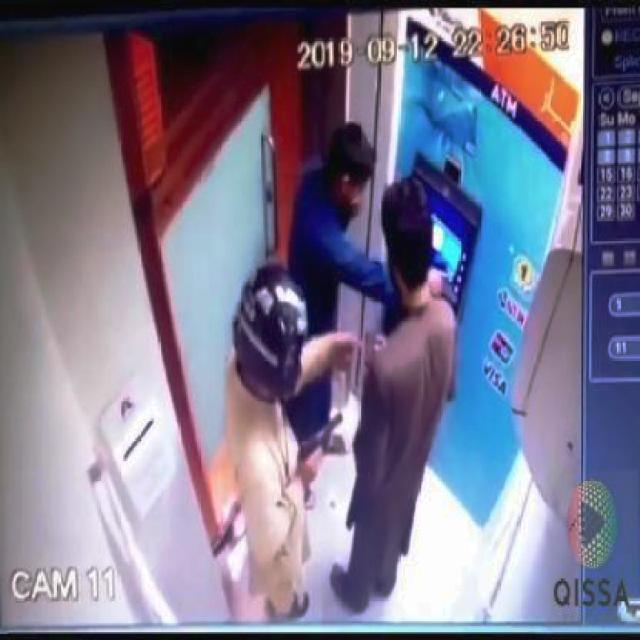Gun: (293, 408, 346, 478)
